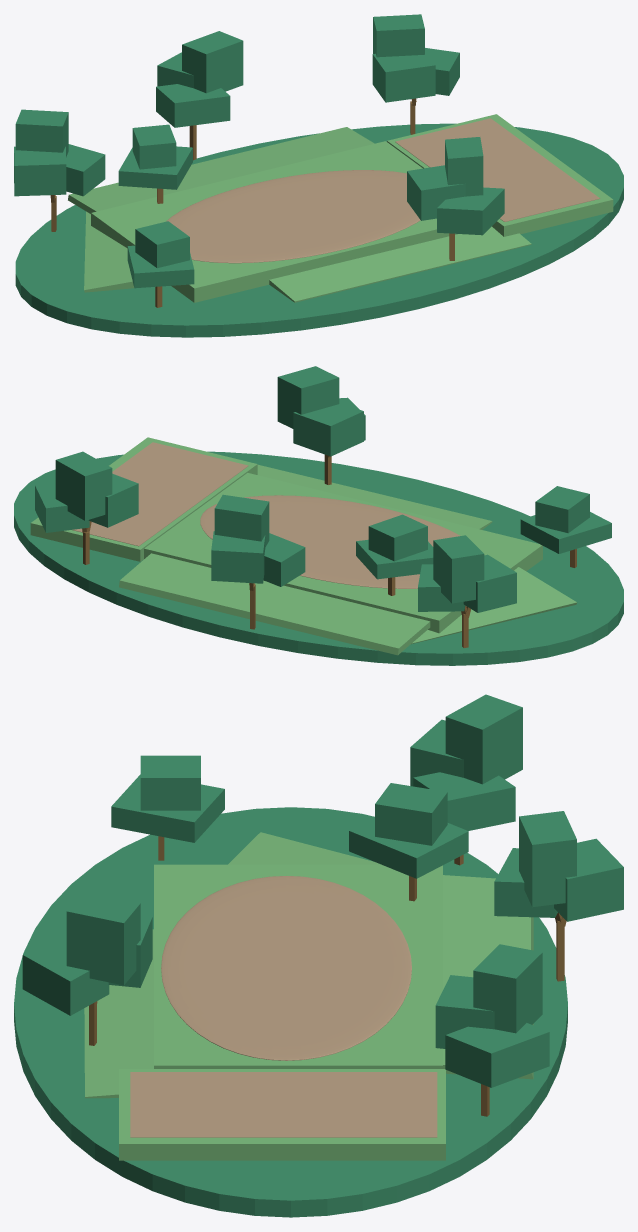
File: islandnew.glb
3 renders of one model, top to bottom at view 1: azimuth 30°, elevation 25°; view 2: azimuth 150°, elevation 25°; view 3: azimuth 270°, elevation 25°, orthographic. The views are drawn at different scales.
Visible parts, largest first — view 1: Mesh_Mesh_head_geo.001_lambert2SG.001; view 2: Mesh_Mesh_head_geo.001_lambert2SG.001; view 3: Mesh_Mesh_head_geo.001_lambert2SG.001.
Part boxes in pixels (bbox=[...]): Mesh_Mesh_head_geo.001_lambert2SG.001: bbox=[14, 14, 623, 337]; Mesh_Mesh_head_geo.001_lambert2SG.001: bbox=[14, 366, 623, 665]; Mesh_Mesh_head_geo.001_lambert2SG.001: bbox=[14, 694, 623, 1217].
Size of the model in its own units: 319 by 69 by 209.
